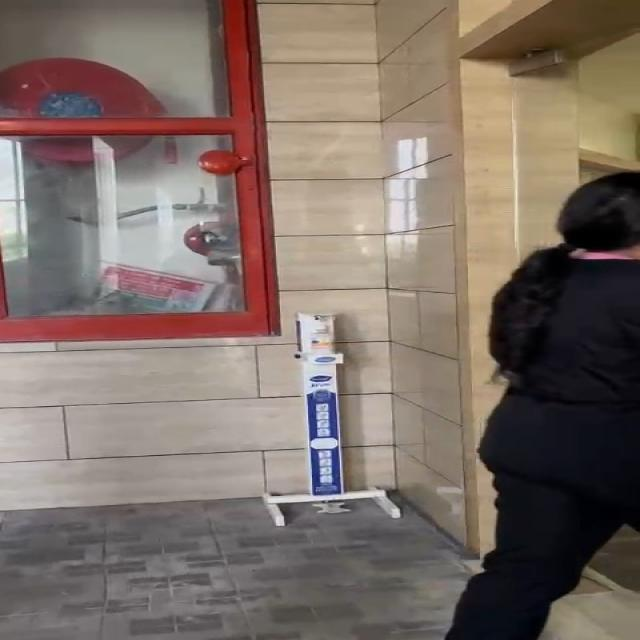floor: (0, 491, 458, 640)
moving_object: (467, 160, 640, 620)
wall: (0, 0, 500, 498)
